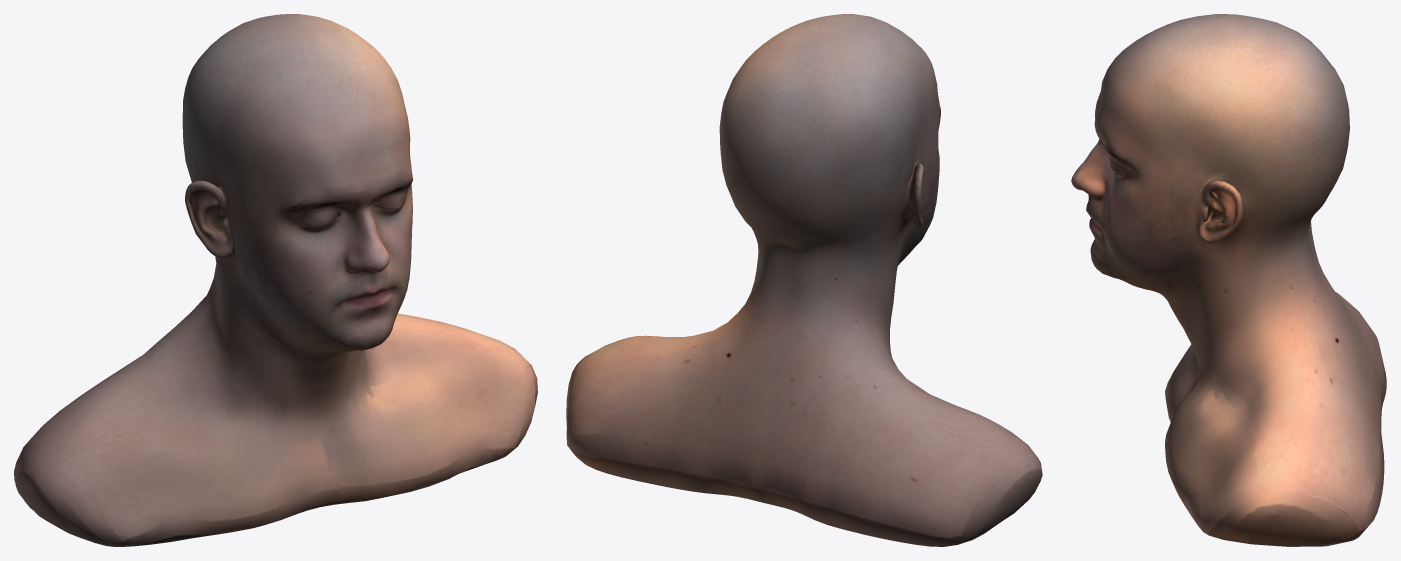
Rendered from head.obj.
The picture shows the model from 3 angles, left to right: view 1: azimuth 30°, elevation 25°; view 2: azimuth 150°, elevation 25°; view 3: azimuth 270°, elevation 25°; orthographic projection. The views are drawn at different scales.
Bounding box in the file's own units: 0.4533 × 0.4211 × 0.2746.
Materials: 1 (1 with a texture image).
